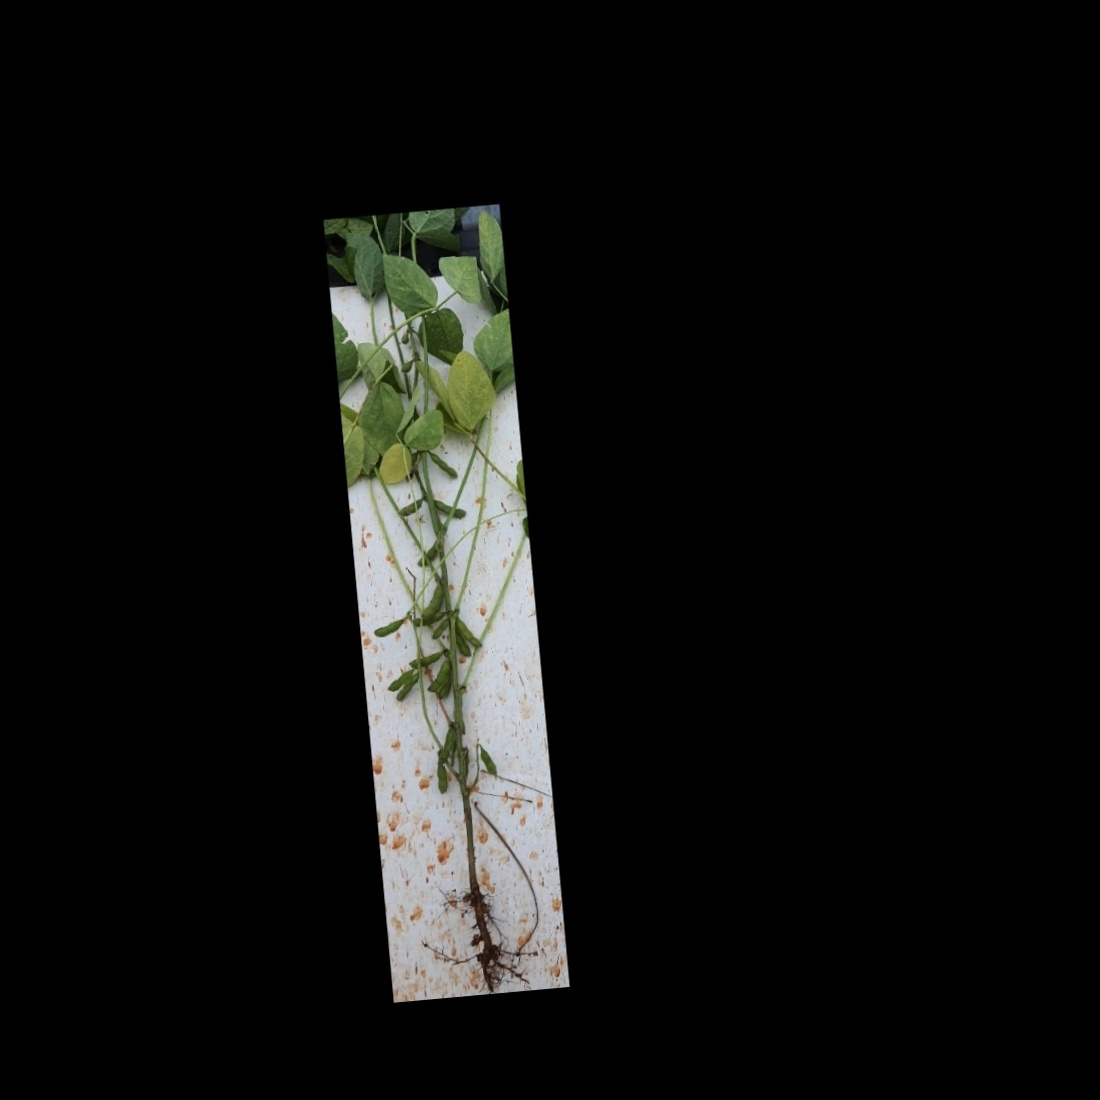pod: (427, 448, 460, 480), (406, 645, 447, 670), (433, 724, 456, 766), (371, 613, 410, 638), (476, 742, 500, 782), (430, 495, 467, 519), (414, 536, 441, 568), (394, 495, 426, 518), (434, 758, 450, 798), (426, 618, 452, 643), (453, 629, 472, 659)
soy: (340, 257, 552, 978)
